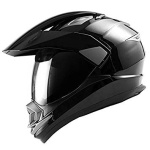Helmet: (2, 10, 147, 143)
